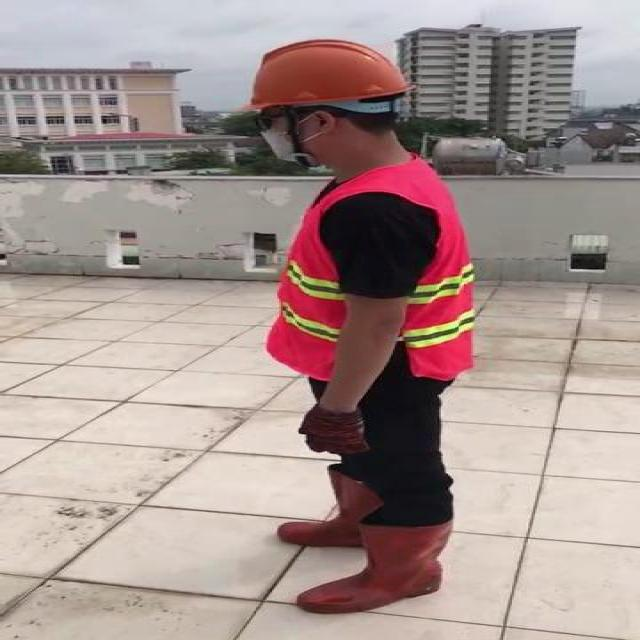boots: (295, 517, 457, 615), (276, 466, 384, 546)
face_mask: (250, 106, 328, 166)
hand_glove: (295, 410, 370, 454)
head_helmet: (243, 34, 424, 114)
person: (223, 35, 488, 618)
vest: (267, 160, 473, 377)
